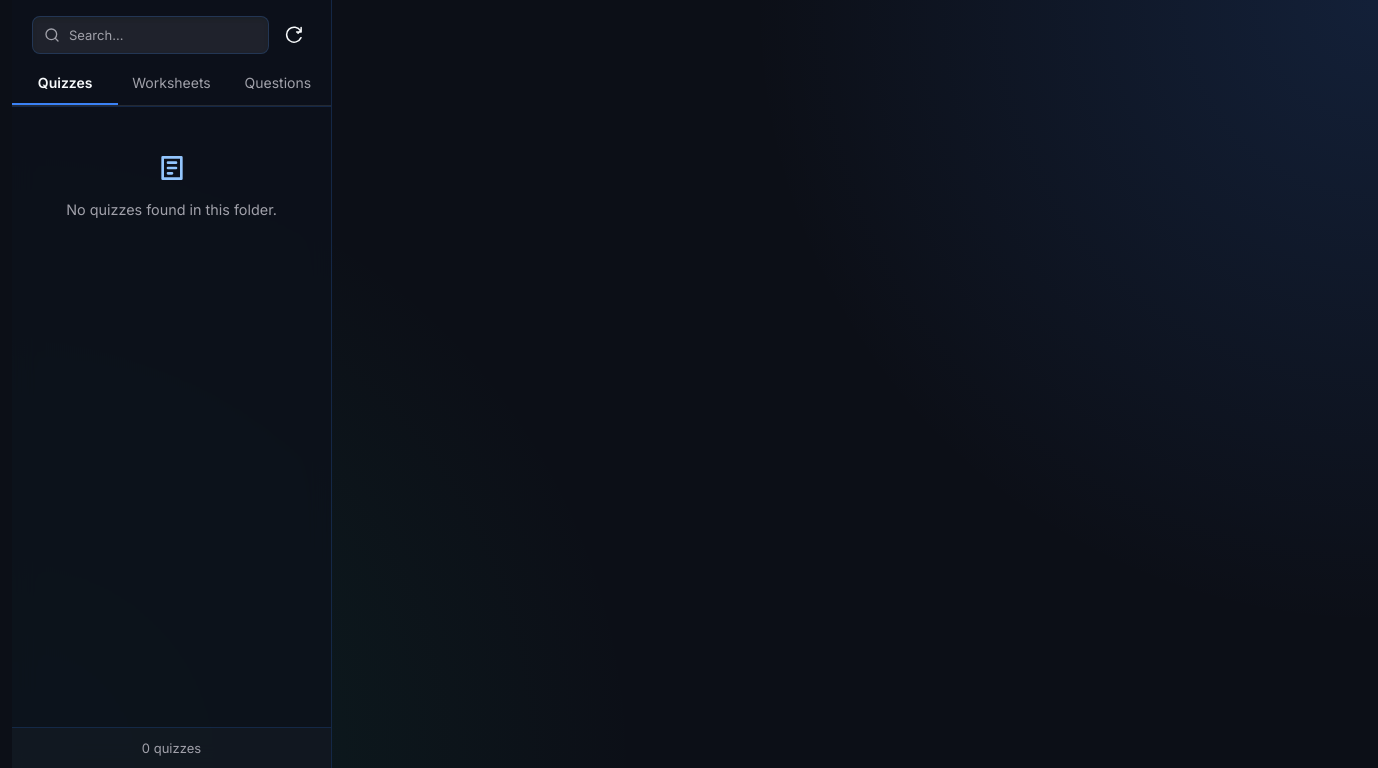
it: Sidebar Component › shows question files only in the Questions tab
Expected: the text "SPIFFE-SPIRE and mTLS" is not shown
Click the button "Questions": (278, 84) [225, 62, 331, 105]
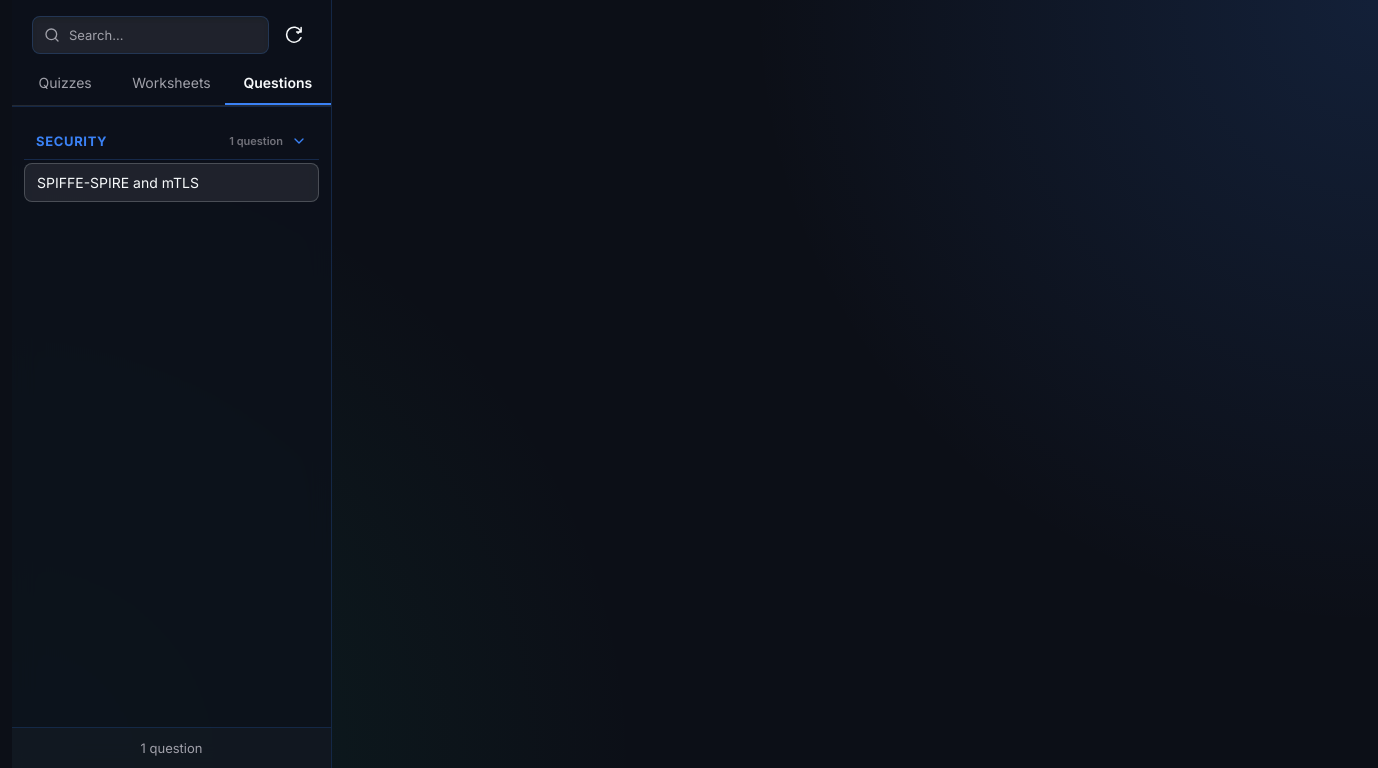
Expected: the button "SPIFFE-SPIRE and mTLS" is shown, [24, 163, 319, 202]
